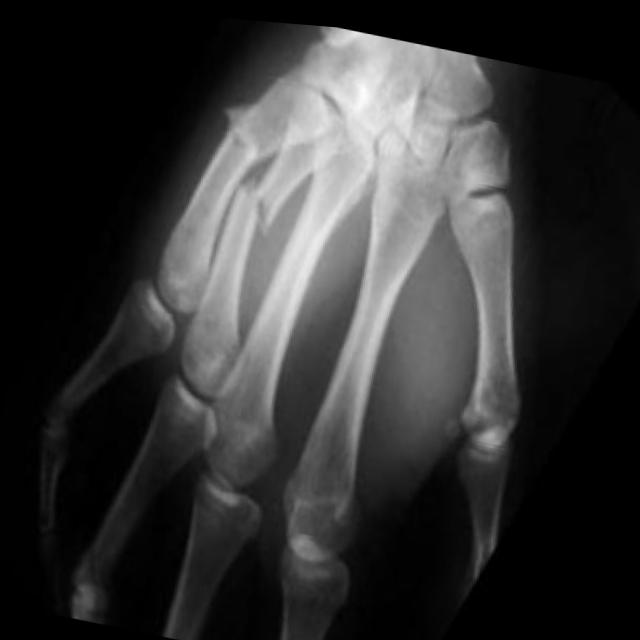fracture: (211, 80, 271, 172), (229, 173, 277, 236)
